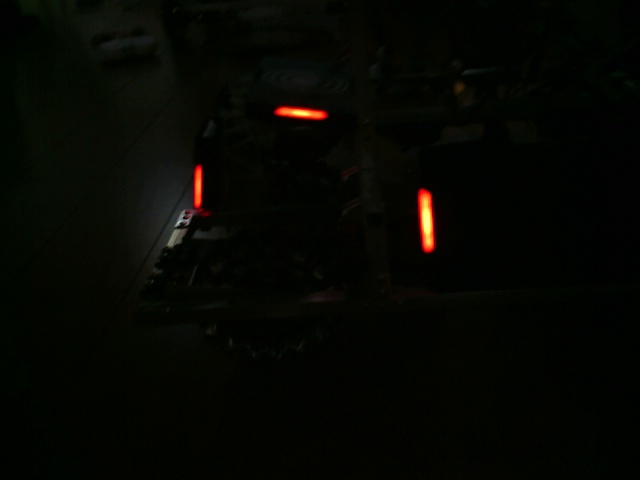lamp: (413, 186, 440, 256), (190, 163, 209, 211)
